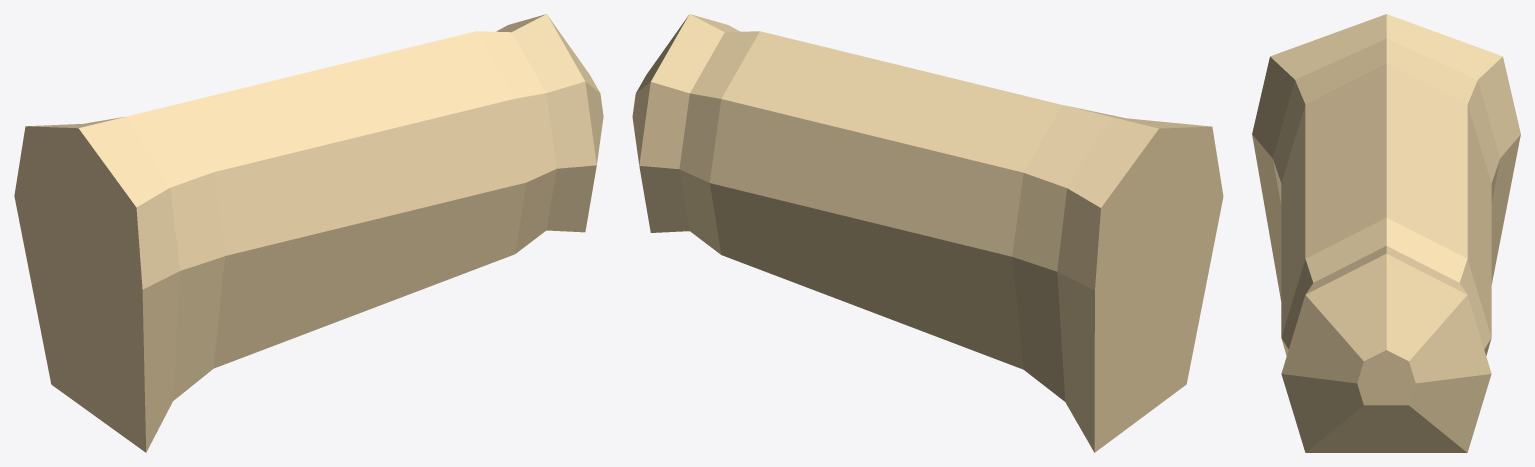
Rendered from LeftArmShoulder.fbx.
The picture shows the model from 3 angles, left to right: view 1: azimuth 30°, elevation 25°; view 2: azimuth 150°, elevation 25°; view 3: azimuth 270°, elevation 25°; orthographic projection. The views are drawn at different scales.
Parts seen in each view (by area): view 1: LeftArmShoulder; view 2: LeftArmShoulder; view 3: LeftArmShoulder.
Part boxes in pixels (left/top/right/bottom): LeftArmShoulder: left=14, top=14, right=603, bottom=452; LeftArmShoulder: left=632, top=14, right=1223, bottom=452; LeftArmShoulder: left=1252, top=14, right=1520, bottom=452.
Bounding box in the file's own units: 46.79 × 25.78 × 20.32.
